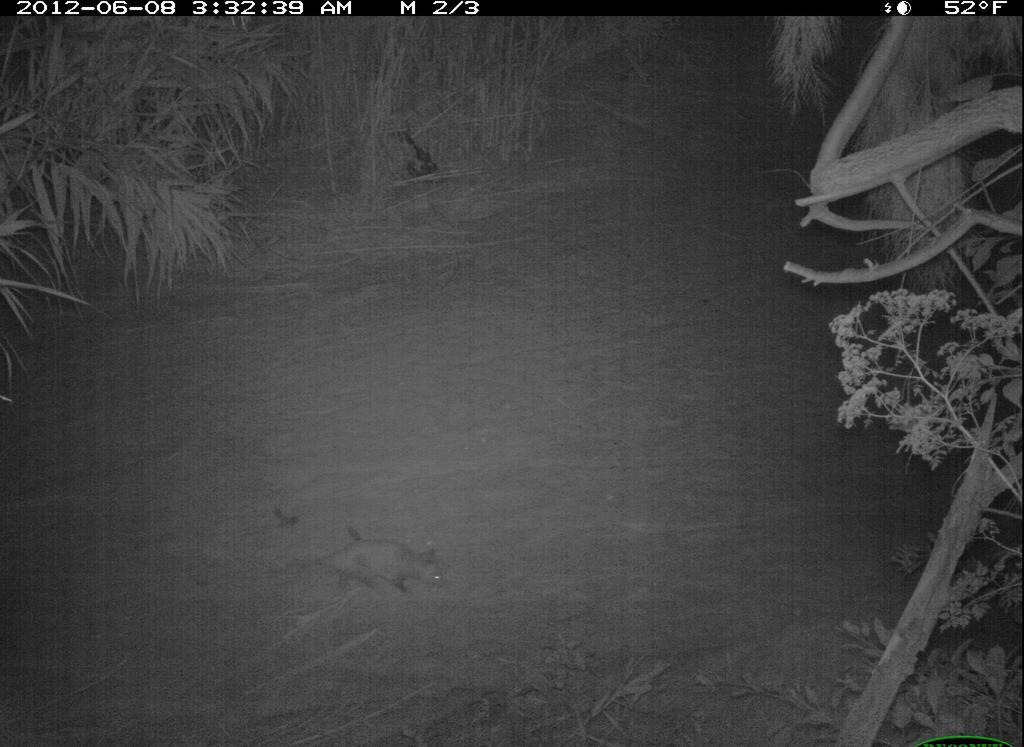opossum: (259, 537, 456, 609)
